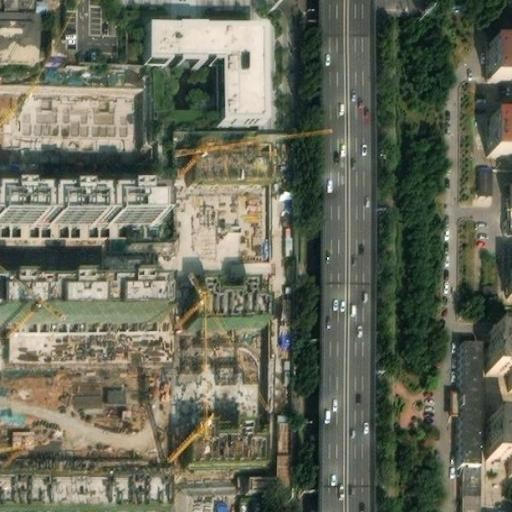building: (151, 11, 272, 108), (0, 91, 141, 153), (0, 280, 158, 315), (0, 181, 160, 213), (188, 281, 263, 322), (189, 136, 264, 176), (186, 422, 261, 462), (459, 336, 482, 460), (483, 411, 512, 471), (483, 326, 512, 385), (273, 414, 295, 491), (486, 24, 512, 74), (487, 100, 512, 150), (462, 460, 481, 512), (236, 472, 272, 494), (500, 179, 512, 233), (475, 166, 494, 197), (110, 382, 128, 397)
